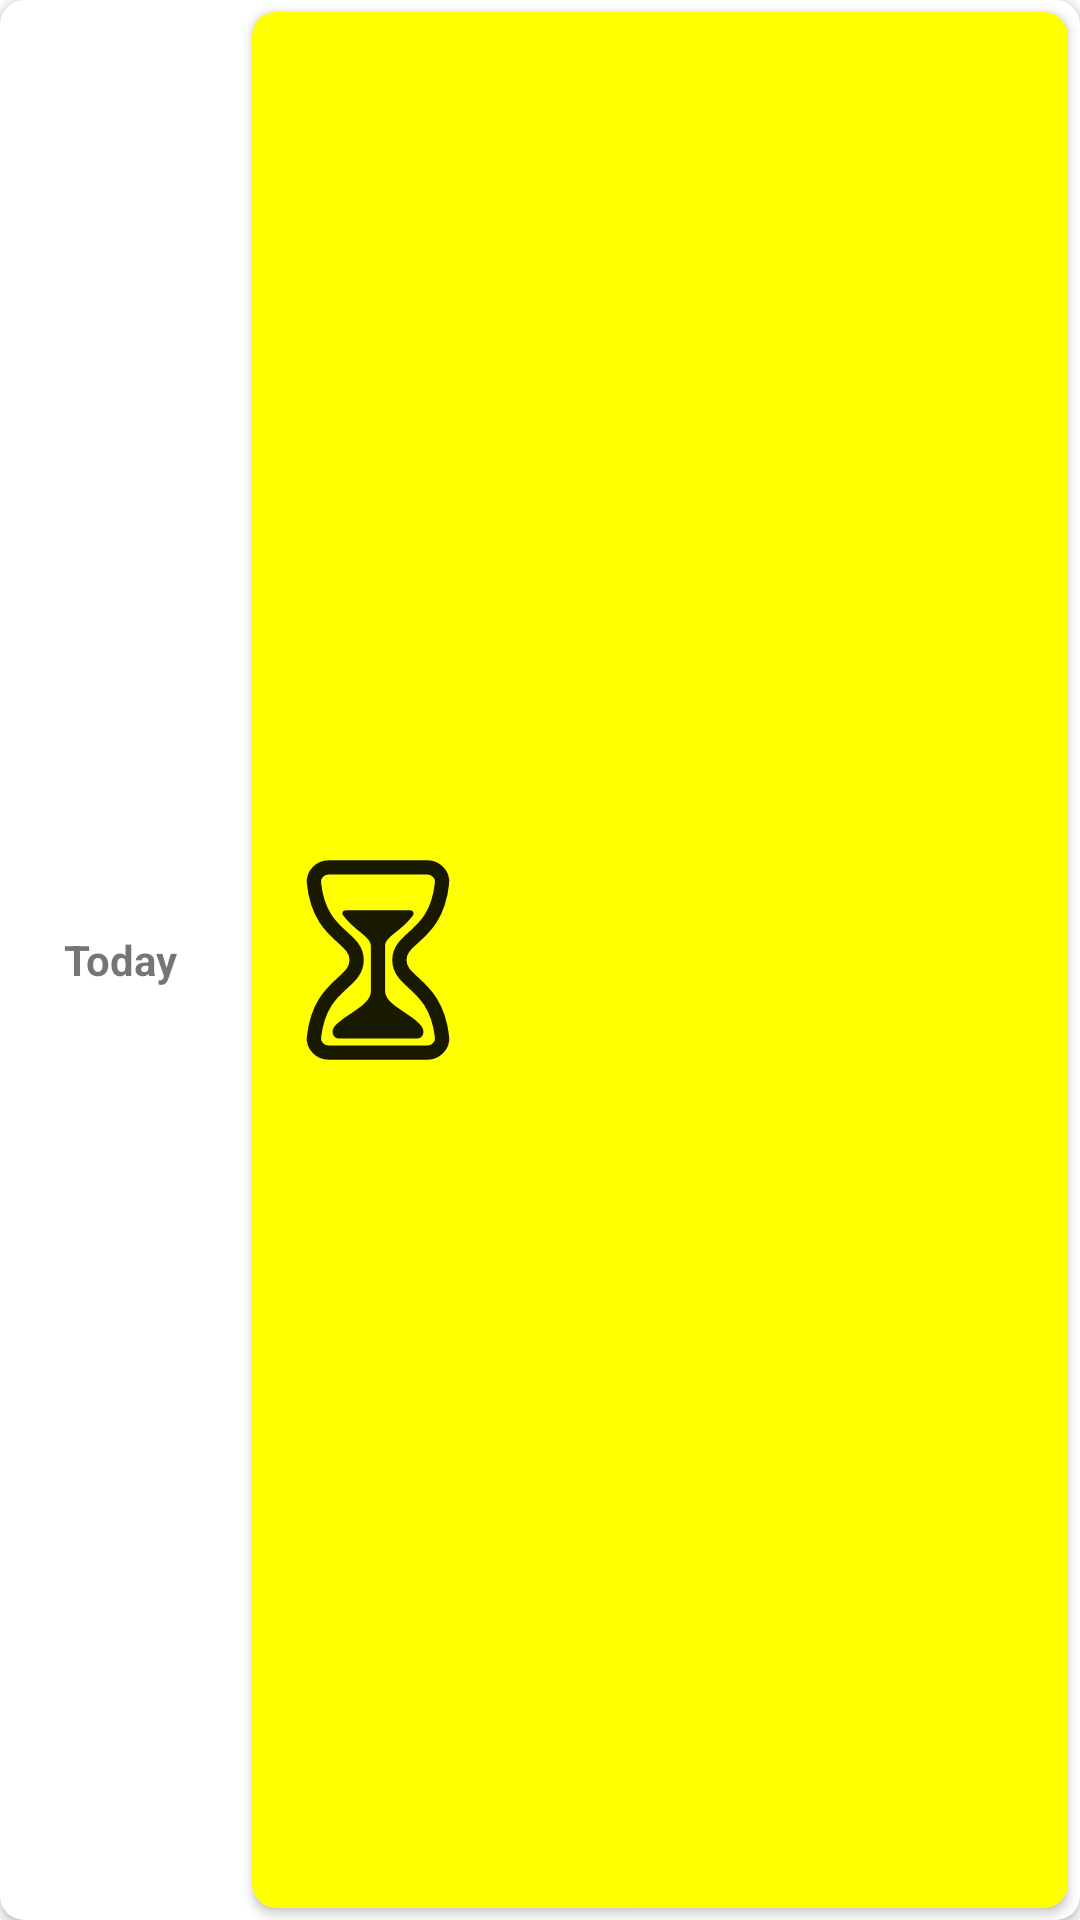

Icons on this 1080*1920 Android screen, each with its box as (x1, y1, x2, y2):
hourglass: (306, 860, 450, 1060)
